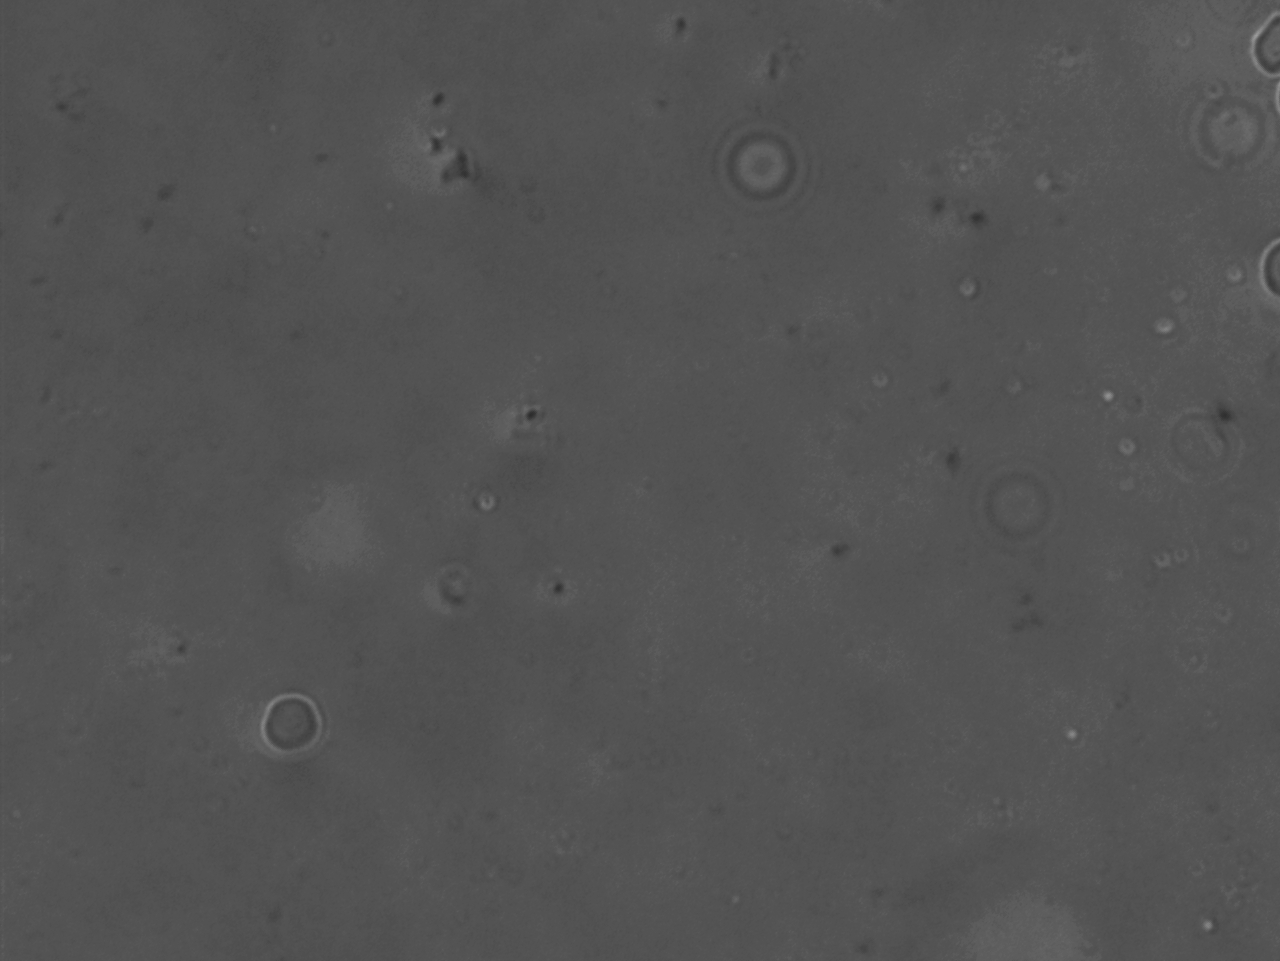depth:0: (252, 685, 348, 771)
